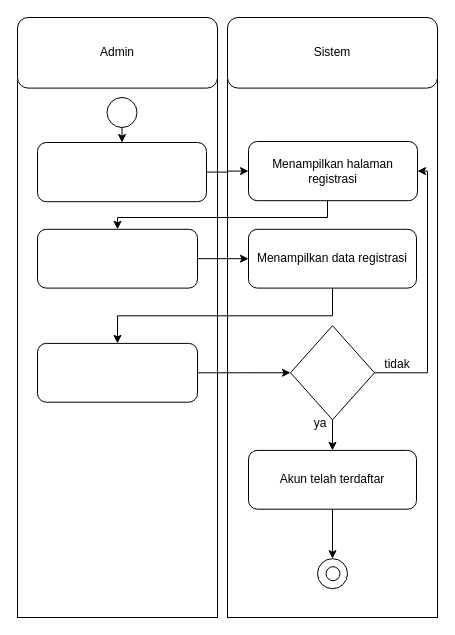
The diagram is 455 pixels wide and 635 high, and some of its shapes have lost their labels. The centre of each missing label's shape, as x and y in pixels:
Admin mengisi form registrasi dan simpan: point (117, 258)
Buat username dan password: point (117, 372)
Buka halaman registrasi: point (121, 172)
